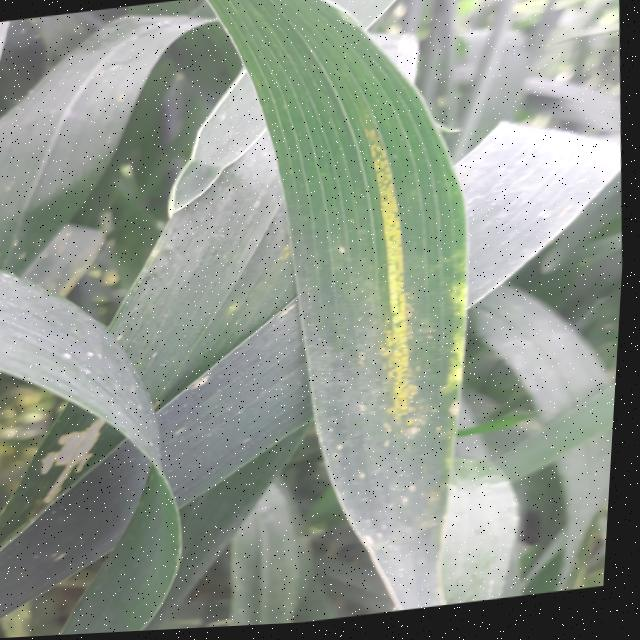powder_mildew: (20, 395, 154, 527)
yellow_rust: (230, 44, 522, 609)
